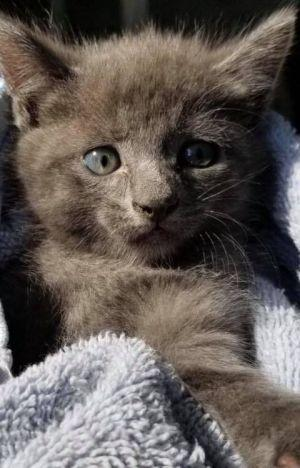rblue: (1, 1, 300, 280)
